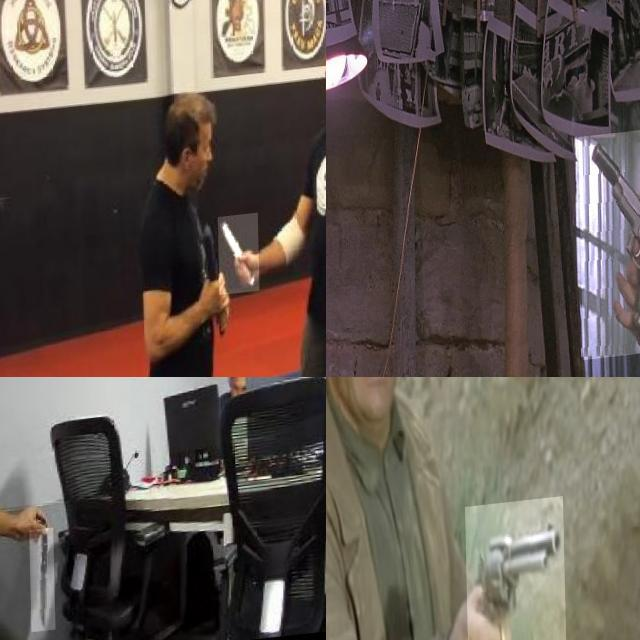-: (217, 222, 258, 304), (27, 536, 52, 640)
gun-knife-thesis - v11 Yolov5 augmented: (576, 133, 640, 366), (463, 506, 564, 640)
